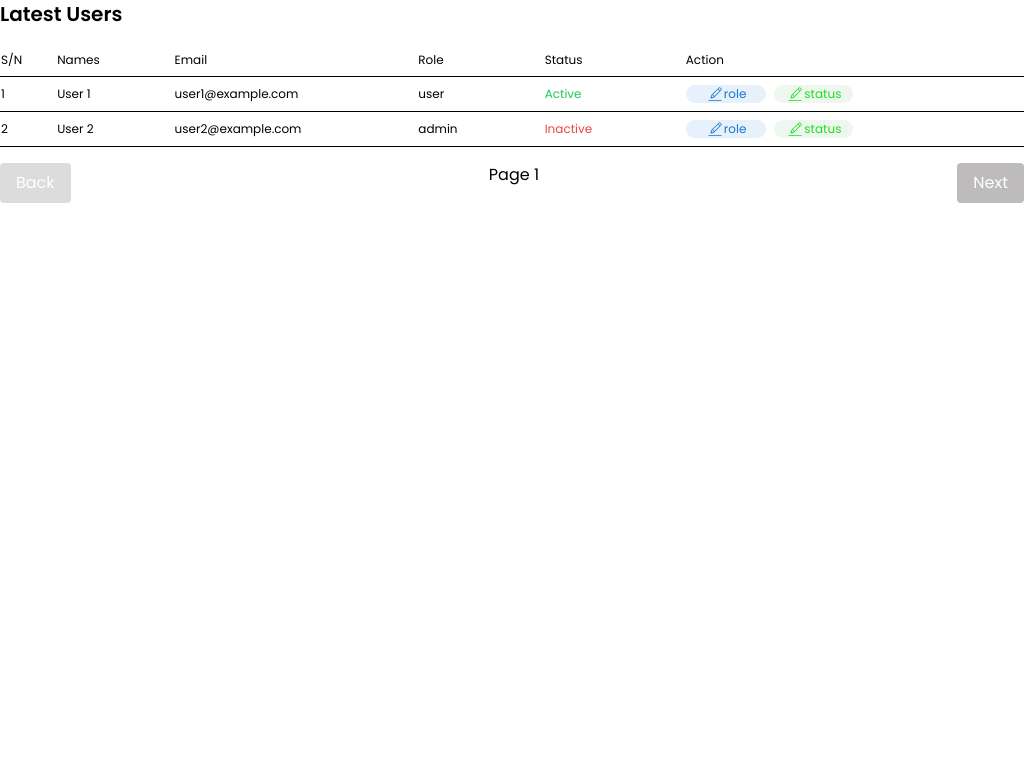
Scenario: UsersTable › should open and close role change modal
The image size is (1024, 768).
expect the text "User 1" is shown: met, box [41,76,174,112]
Click the button with aria-label "edit".
click(726, 94)  # box [686,85,766,103]
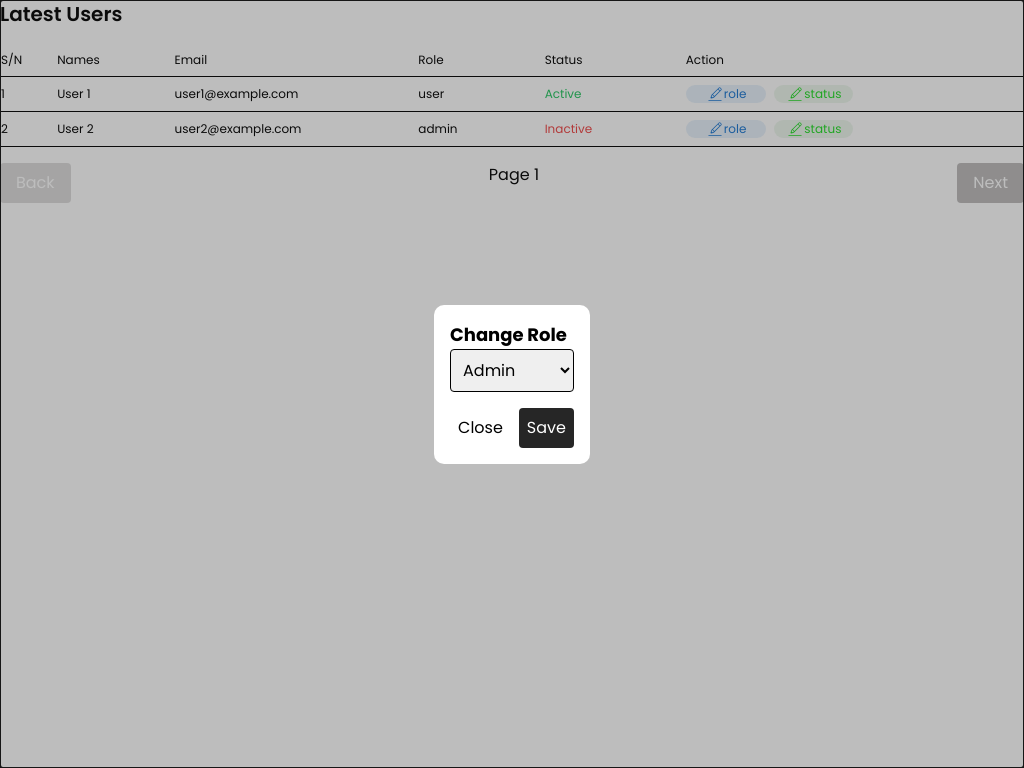
expect the dialog is shown: met
expect the heading "Change Role" is shown: met, box [450,320,574,348]
Click the button "Close".
click(480, 428)  # box [450,408,511,448]
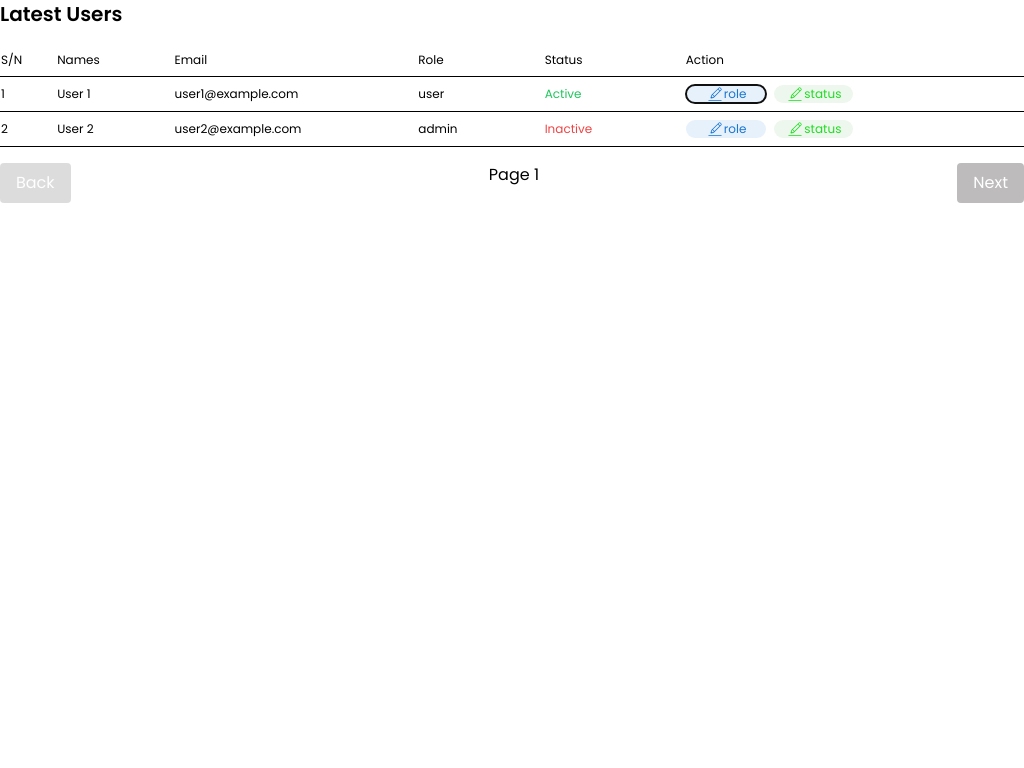
expect the dialog is gone: met
